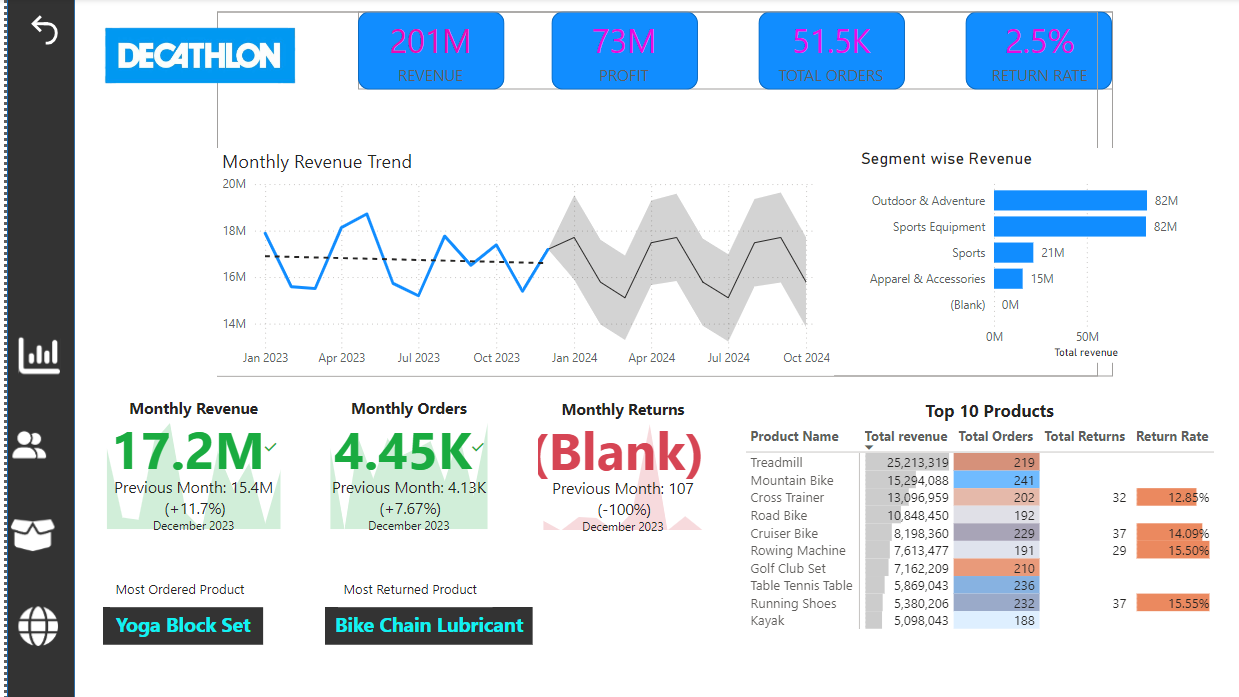

This screenshot's page, from the dashboard's own definition file:
{"tool":"powerbi","page":{"name":"Executive Dashboard","canvas":[1280,720],"ordinal":0},"visuals":[{"type":"shape","box":[0,0,69.6,720.6],"z":0},{"type":"shape","box":[359.4,14.6,150,80],"z":0,"group":"g2"},{"type":"card","fields":{"Values":["Measures Table.Total revenue"]},"box":[374.4,14.6,120,80],"z":0,"group":"g3"},{"type":"group","id":"g1","title":"KPI","box":[215.4,14.6,916.5,372.4],"z":1000},{"type":"group","id":"g2","title":"KPI background","box":[359.4,14.6,772.5,80],"z":1000,"group":"g1"},{"type":"shape","box":[556.9,14.6,150,80],"z":1000,"group":"g2"},{"type":"card","fields":{"Values":["Measures Table.PROFIT"]},"box":[571.9,14.6,120,80],"z":1000,"group":"g3"},{"type":"image","box":[71.2,0,254.2,124.7],"z":2000},{"type":"group","id":"g3","title":"KPI values","box":[215.4,14.6,901.5,373.1],"z":2000,"group":"g1"},{"type":"shape","box":[769.4,14.6,150,80],"z":2000,"group":"g2"},{"type":"card","fields":{"Values":["Measures Table.Return Rate"]},"box":[996.9,14.6,120,80],"z":2000,"group":"g3"},{"type":"shape","box":[981.9,14.6,150,80],"z":3000,"group":"g2"},{"type":"lineChart","title":"Monthly Revenue Trend","fields":{"Category":["Calender.Start of Month"],"Y":["Measures Table.Total revenue"]},"box":[215.4,154.3,632.1,233.3],"z":3000,"group":"g3"},{"type":"kpi","title":"Monthly Revenue","fields":{"Indicator":["Measures Table.Total revenue"],"TrendLine":["Calender.Start of Month"],"Goal":["Measures Table.Previous Month Revenue"]},"box":[97.1,408.6,188.6,140],"z":3000},{"type":"actionButton","box":[2,436.9,56.7,42.5],"z":3000,"group":"g4"},{"type":"actionButton","box":[0,524,56.7,52.7],"z":3250,"group":"g4"},{"type":"actionButton","box":[8.1,341.7,52.7,50.6],"z":3500,"group":"g4"},{"type":"card","fields":{"Values":["Measures Table.Total Orders"]},"box":[784.4,14.6,120,80],"z":4000,"group":"g3"},{"type":"kpi","title":"Monthly Orders","fields":{"TrendLine":["Calender.Start of Month"],"Indicator":["Measures Table.Total Orders"],"Goal":["Measures Table.Previous Months Orders"]},"box":[325.7,408.6,171.4,140],"z":4000},{"type":"kpi","title":"Monthly Returns","fields":{"TrendLine":["Calender.Start of Month"],"Goal":["Measures Table.Previous Month Returns"],"Indicator":["Measures Table.Total Returns"]},"box":[543.9,410.2,173.6,139.8],"z":5000},{"type":"barChart","title":"Segment wise Revenue","fields":{"Category":["Segment.Business Segment"],"Y":["Measures Table.Total revenue"]},"box":[870,153.3,346.7,220],"z":6000},{"type":"pivotTable","title":"Top 10 Products","fields":{"Rows":["Products.Product Name"],"Values":["Measures Table.Total revenue","Measures Table.Total Orders","Measures Table.Total Returns","Measures Table.Return Rate"]},"box":[751.3,409.7,510.1,257.5],"z":7000},{"type":"card","fields":{"Values":["Min(Products.Product Name)"]},"box":[98.8,623.8,163.8,38.8],"z":8000},{"type":"textbox","box":[105.7,590,157.1,34.3],"z":9000},{"type":"card","fields":{"Values":["Min(Products.Product Name)"]},"box":[325,623.8,212.5,38.8],"z":10000},{"type":"textbox","box":[340,590,157.5,33.8],"z":11000},{"type":"actionButton","box":[17.8,12.9,43.7,40.4],"z":12000},{"type":"group","id":"g4","title":"Custom Navigation Buttons","box":[0,341.7,61.5,234.8],"z":13000},{"type":"actionButton","box":[8.1,618.5,53.4,48.6],"z":14000}]}

Visuals, with their boxes on the page's 1280x720 design canvas (x1, y1, x2, y2). These are canvas units, not pixel positions in the 1239x697 screenshot, which may show the page scaled, cropped or inside an application window:
shape: select_region(0, 0, 70, 721)
shape: select_region(359, 15, 509, 95)
card - Measures Table.Total revenue: select_region(374, 15, 494, 95)
"KPI" group: select_region(215, 15, 1132, 387)
"KPI background" group: select_region(359, 15, 1132, 95)
shape: select_region(557, 15, 707, 95)
card - Measures Table.PROFIT: select_region(572, 15, 692, 95)
image: select_region(71, 0, 325, 125)
"KPI values" group: select_region(215, 15, 1117, 388)
shape: select_region(769, 15, 919, 95)
card - Measures Table.Return Rate: select_region(997, 15, 1117, 95)
shape: select_region(982, 15, 1132, 95)
"Monthly Revenue Trend" lineChart: select_region(215, 154, 848, 388)
"Monthly Revenue" kpi: select_region(97, 409, 286, 549)
actionButton: select_region(2, 437, 59, 479)
actionButton: select_region(0, 524, 57, 577)
actionButton: select_region(8, 342, 61, 392)
card - Measures Table.Total Orders: select_region(784, 15, 904, 95)
"Monthly Orders" kpi: select_region(326, 409, 497, 549)
"Monthly Returns" kpi: select_region(544, 410, 718, 550)
"Segment wise Revenue" barChart: select_region(870, 153, 1217, 373)
"Top 10 Products" pivotTable: select_region(751, 410, 1261, 667)
card - Min(Products.Product Name): select_region(99, 624, 263, 663)
textbox: select_region(106, 590, 263, 624)
card - Min(Products.Product Name): select_region(325, 624, 538, 663)
textbox: select_region(340, 590, 498, 624)
actionButton: select_region(18, 13, 62, 53)
"Custom Navigation Buttons" group: select_region(0, 342, 62, 576)
actionButton: select_region(8, 618, 62, 667)
